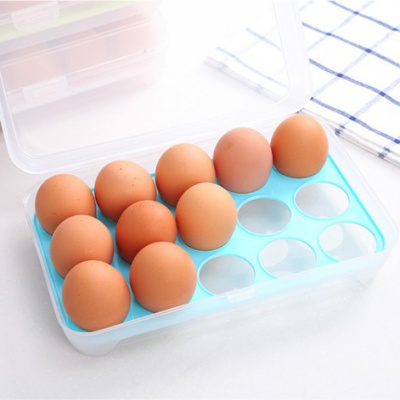egg: (36, 112, 330, 331)
